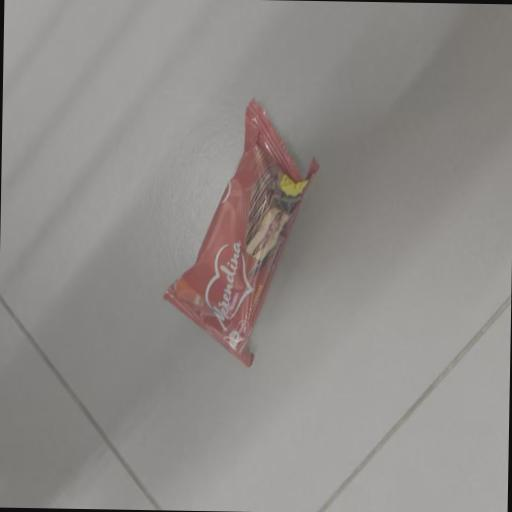merendina: (158, 86, 340, 404)
